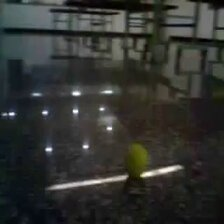tennis: (123, 144, 147, 176)
